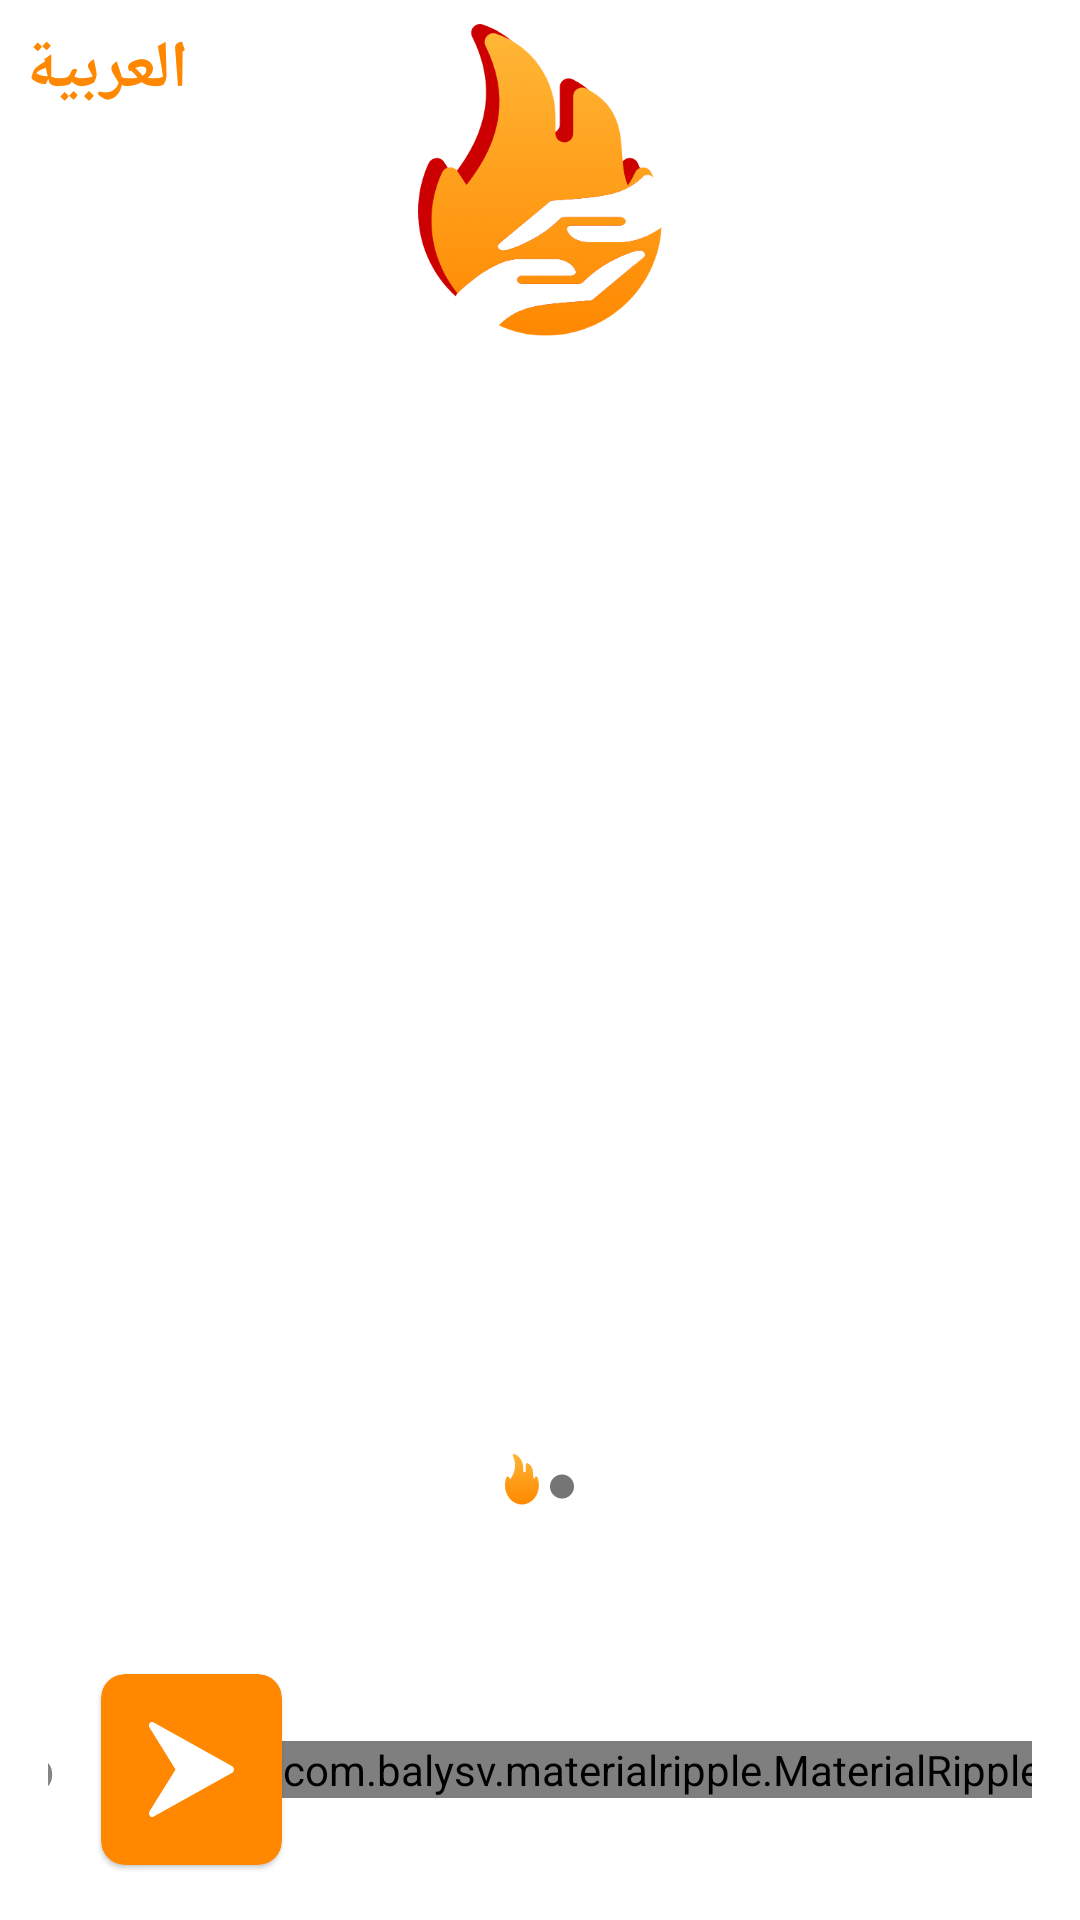

Screen size 1080w x 1920h. Icon name, then its box in pixels as box=[x1, y1, x2, y2]:
boarding indicators: box=[505, 1454, 574, 1505]
next step: box=[101, 1674, 282, 1865]
